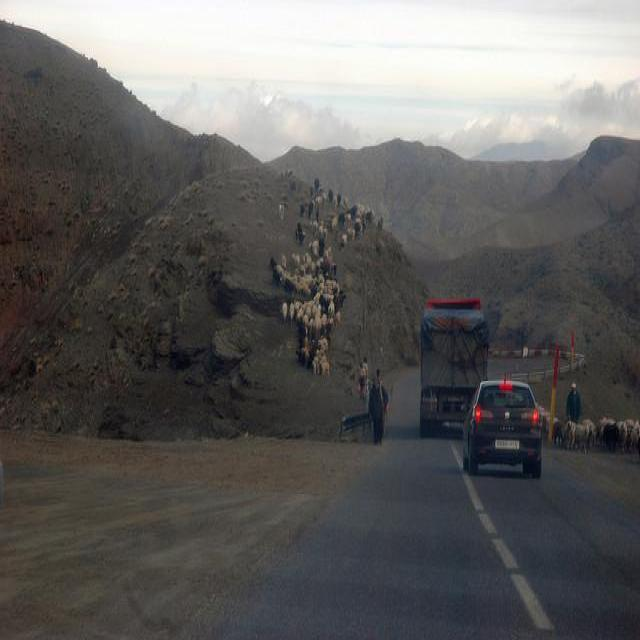Sheep: (269, 164, 639, 458)
